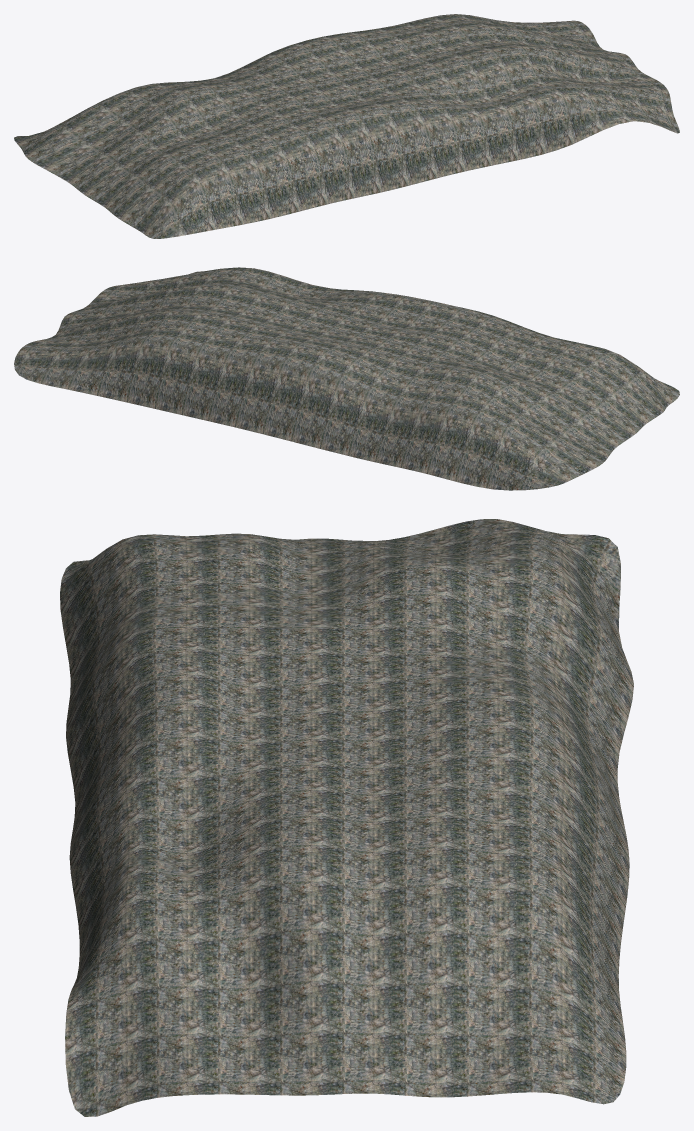
The model's file is lighttestroomGrid.obj.
3 renders of one model, top to bottom at view 1: azimuth 30°, elevation 25°; view 2: azimuth 150°, elevation 25°; view 3: azimuth 270°, elevation 25°, orthographic. The views are drawn at different scales.
Visible parts, largest first — view 1: Grid; view 2: Grid; view 3: Grid.
Part boxes in pixels (<box>): Grid: <box>14,14,679,238</box>; Grid: <box>14,267,679,490</box>; Grid: <box>60,519,633,1116</box>.
Size of the model in its own units: 79.43 by 10.35 by 34.92.
